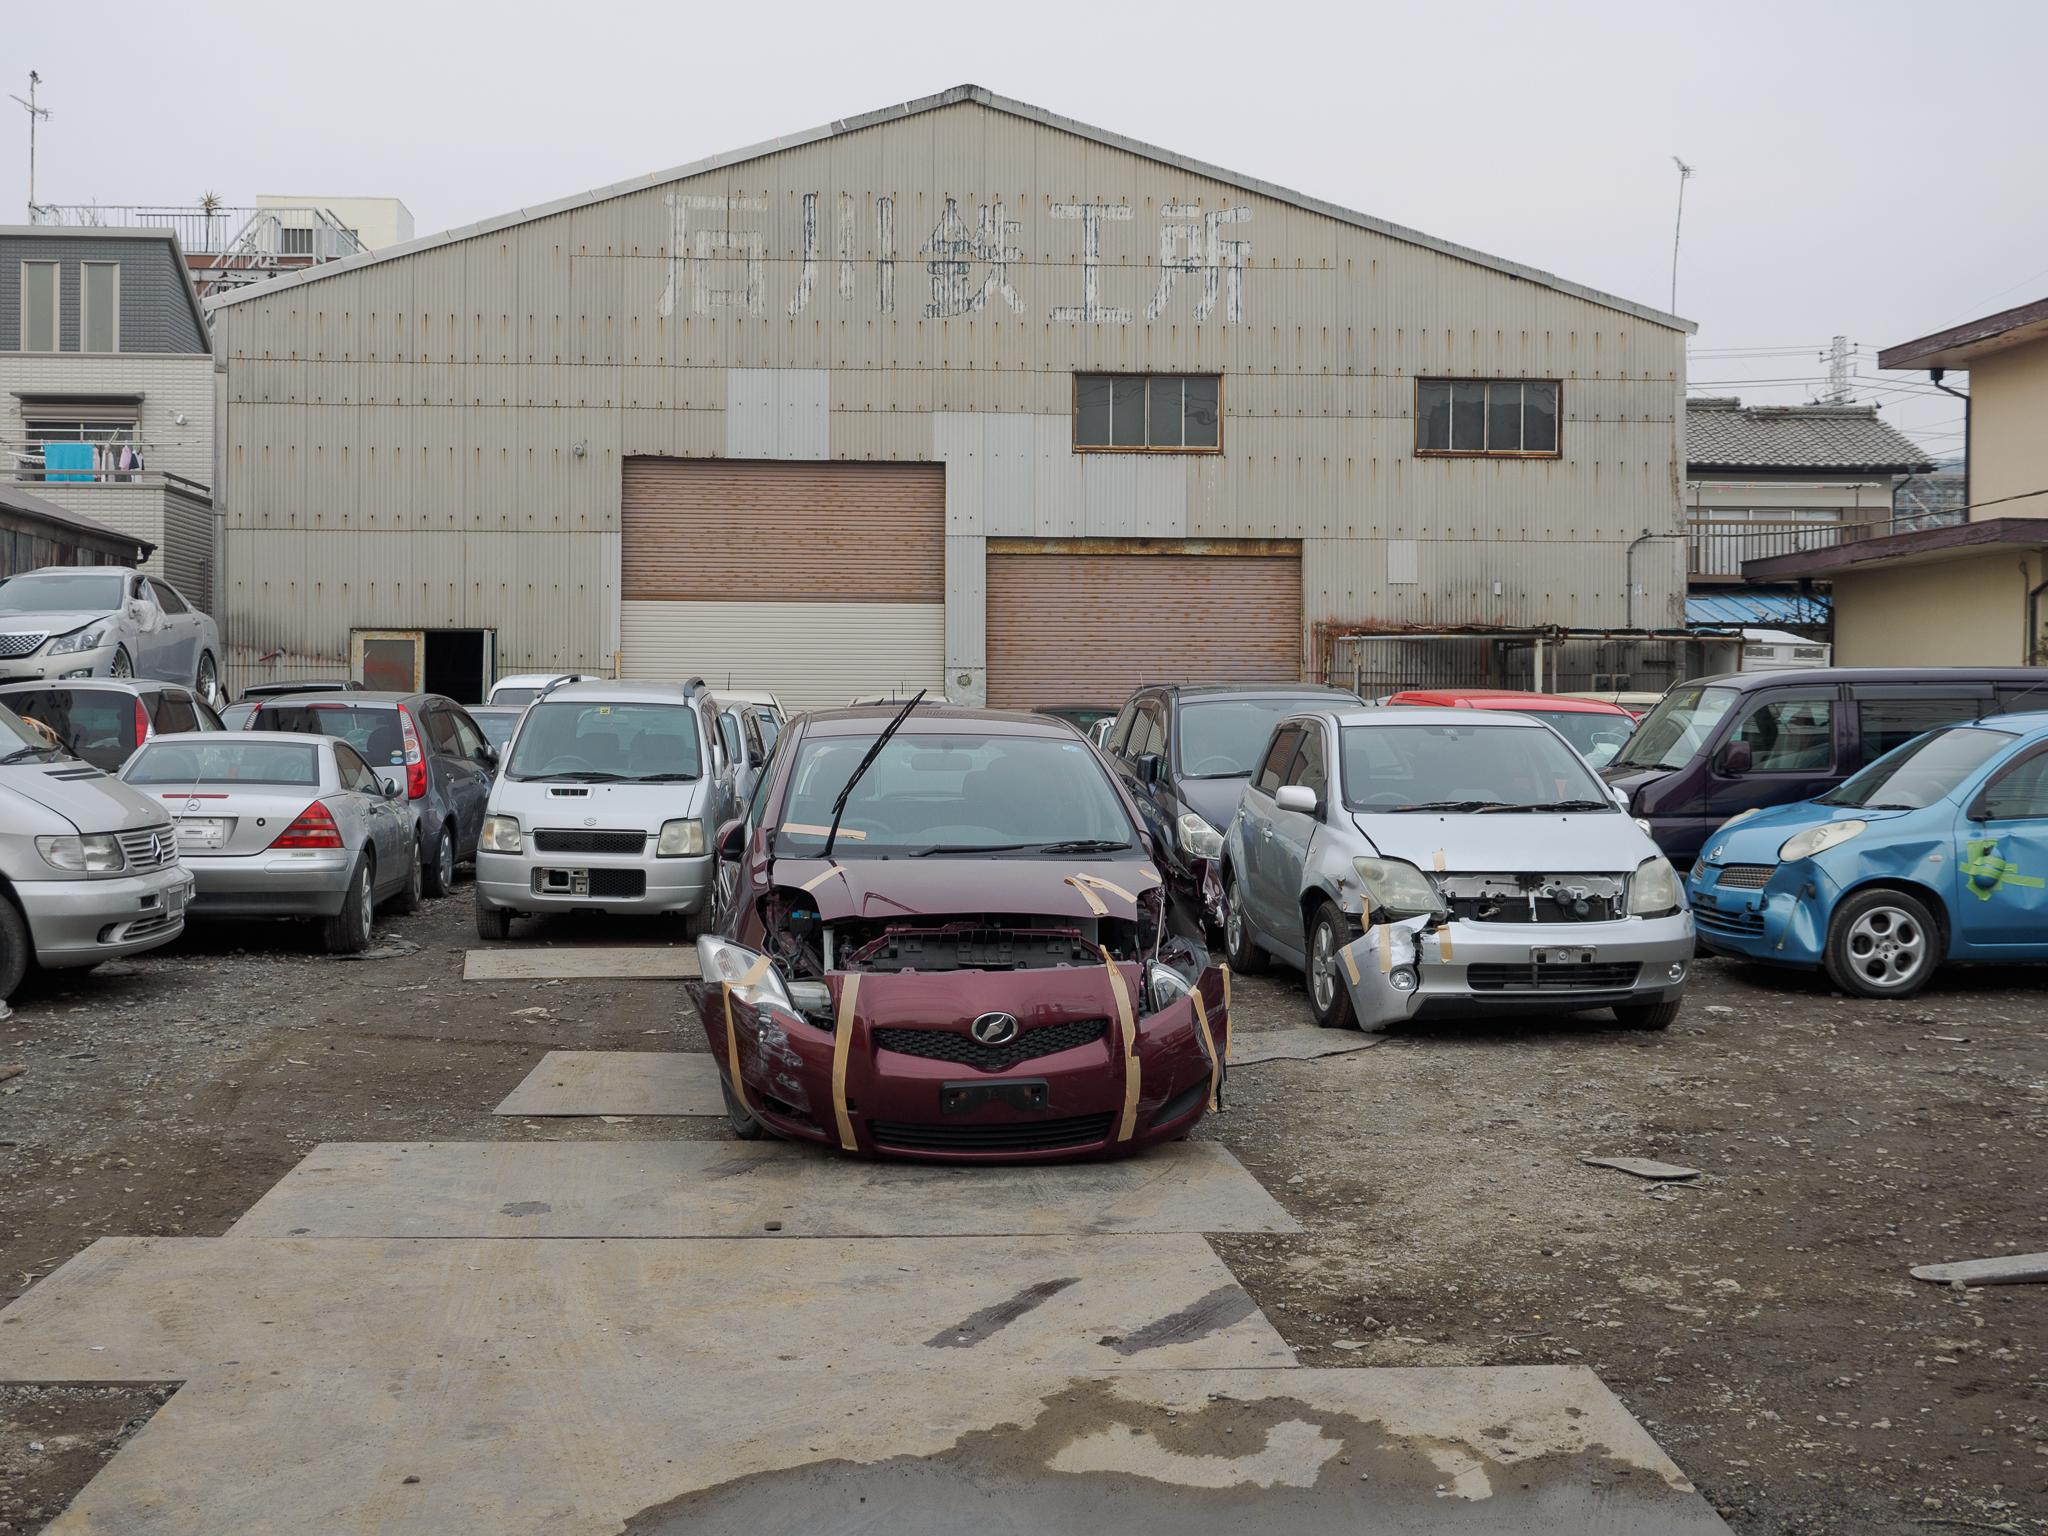Headlight-Damage: (1127, 941, 1221, 1013), (1348, 866, 1453, 929)
bonnet-dent: (771, 837, 1171, 937)
fender-dent: (1829, 831, 1958, 912)
front-bumper-dent: (743, 965, 1184, 1149), (1335, 928, 1680, 1013), (1711, 865, 1840, 975)
